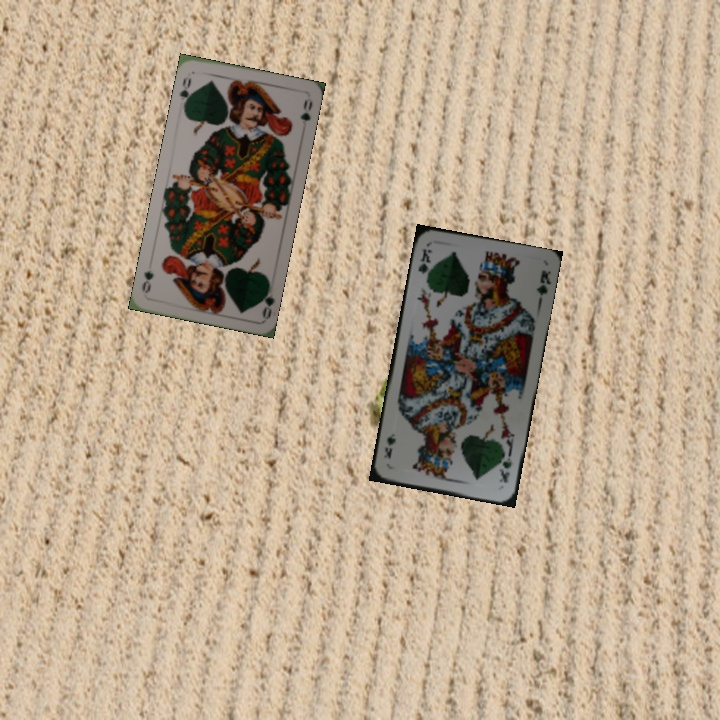GK: (414, 245, 435, 282), (495, 448, 514, 485)
GO: (256, 279, 277, 321), (175, 73, 196, 111)
